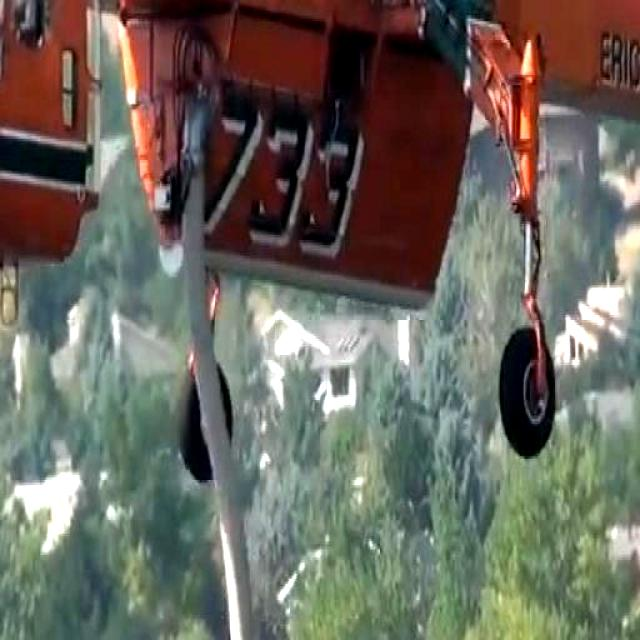drone: (0, 0, 640, 480)
